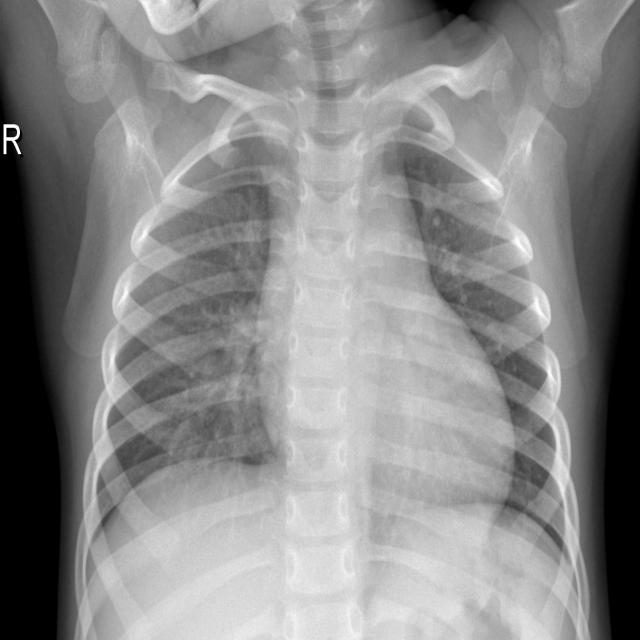no-pneumonia: (85, 134, 281, 537), (382, 141, 572, 552)
